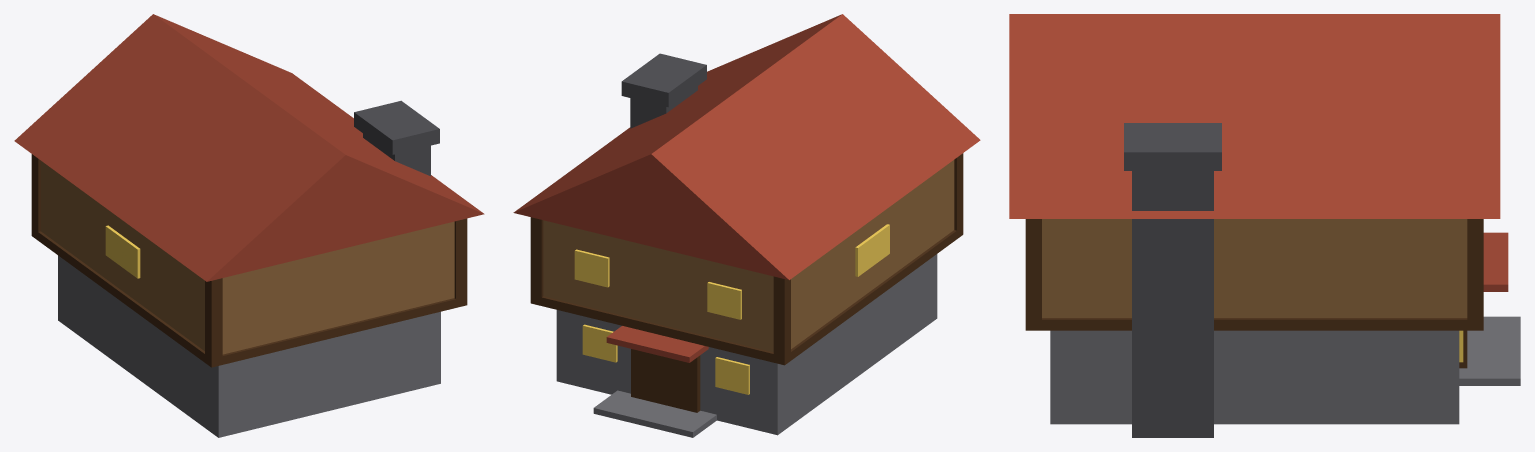
3 renders of one model, left to right at view 1: azimuth 30°, elevation 25°; view 2: azimuth 150°, elevation 25°; view 3: azimuth 270°, elevation 25°, orthographic. The views are drawn at different scales.
Size of the model in its own units: 10 by 9.2 by 12.5.
